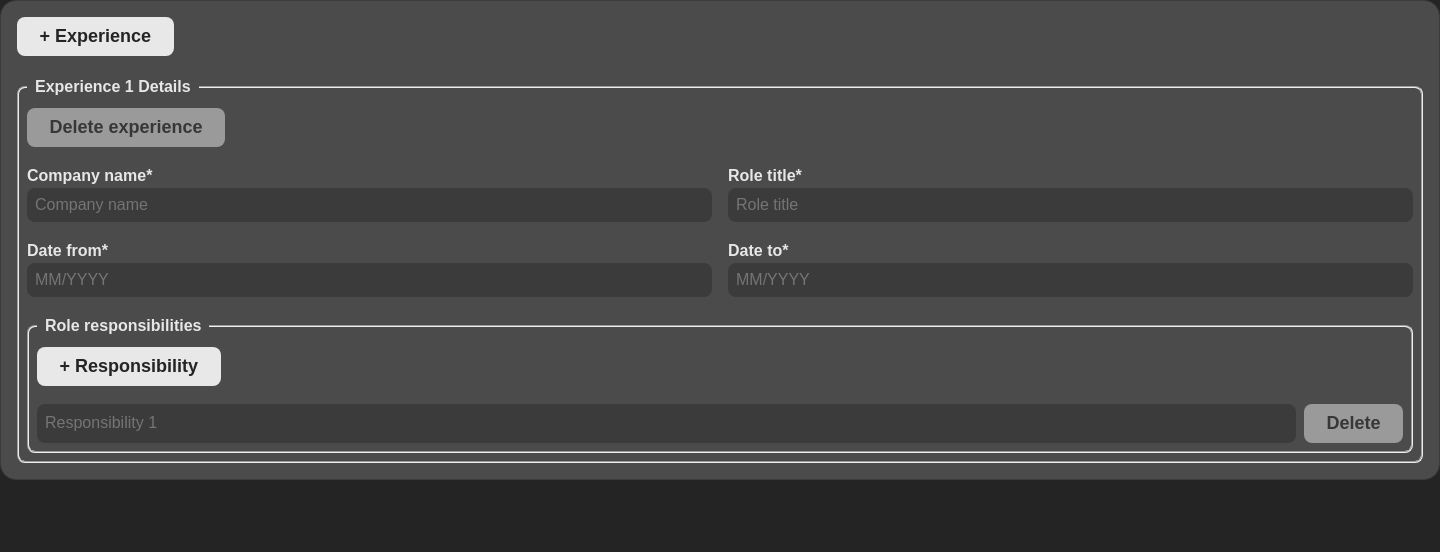
Test case: Testing the Experience component › Testing form validation › Shows error when an invalid date format is entered
Step 1. Type "99/0000" into the field labelled "Date from*" → (370, 280), box [27,263,712,297]
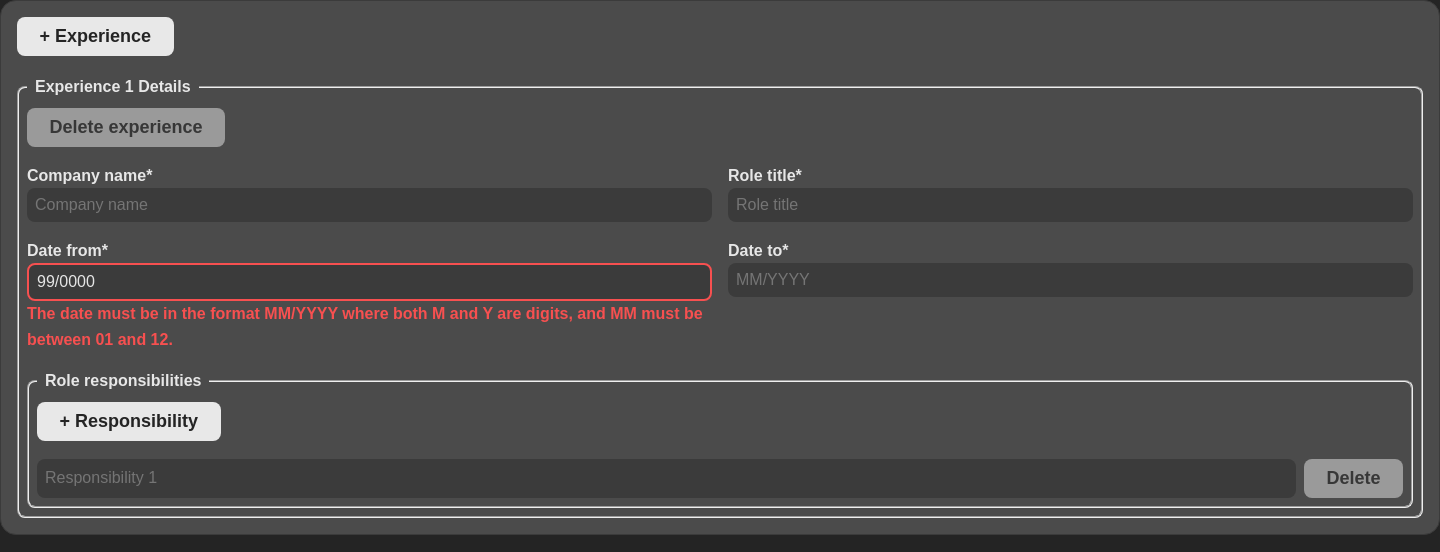
Step 2. Type "00/9999" into the field labelled "Date to*" → (1070, 280), box [728,263,1413,297]
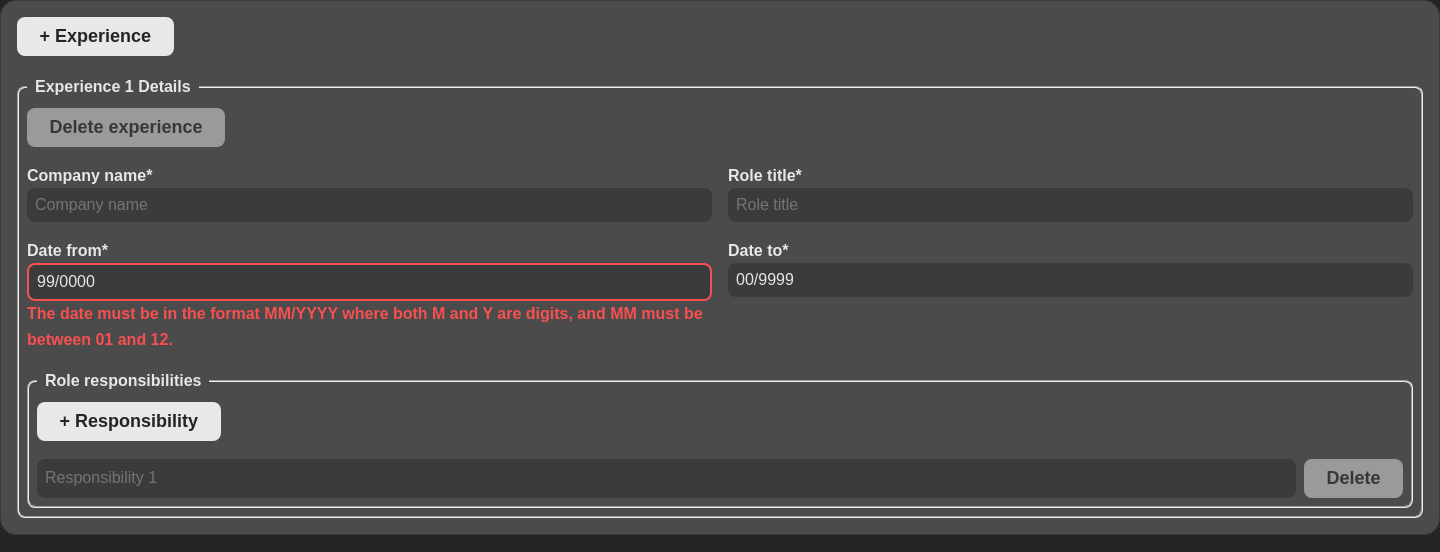
Step 3. Leave the field labelled "Date to*", box [728,263,1413,297]
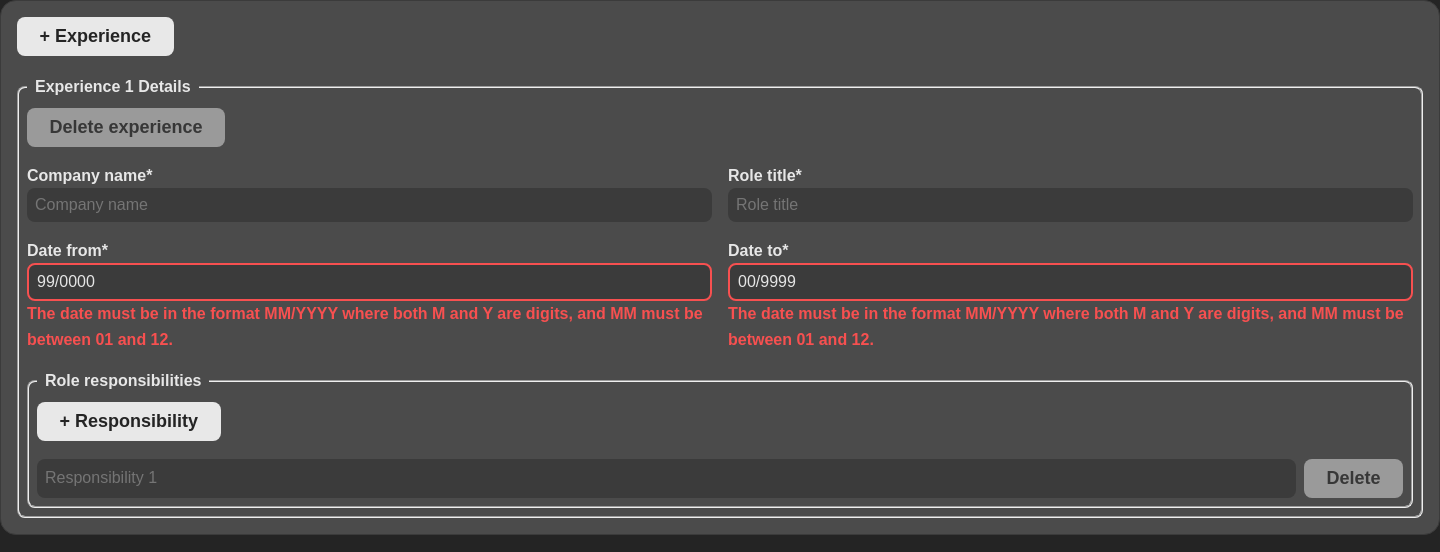
Now the text "The date must be in the format MM/YYYY where both M and Y are digits, and MM must be between 01 and 12." is shown 2 times, box [27,301,712,352]; [728,301,1413,352]
